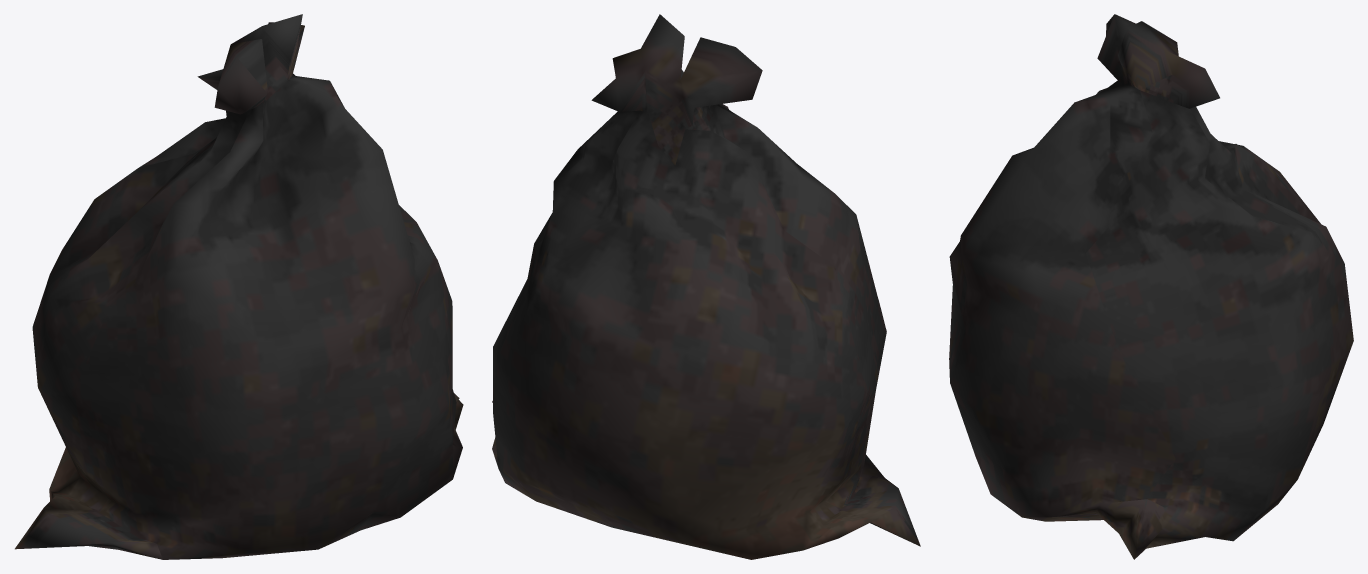
The model's file is Garbage.fbx.
The picture shows the model from 3 angles, left to right: view 1: azimuth 30°, elevation 25°; view 2: azimuth 150°, elevation 25°; view 3: azimuth 270°, elevation 25°; orthographic projection. The views are drawn at different scales.
Visible parts, largest first — view 1: GarbageBag; view 2: GarbageBag; view 3: GarbageBag.
Part boxes in pixels (bbox=[...]): GarbageBag: bbox=[15, 14, 463, 559]; GarbageBag: bbox=[492, 14, 920, 559]; GarbageBag: bbox=[949, 14, 1353, 559].
Size of the model in its own units: 78.68 by 80.42 by 62.83.
1 material, 1 textured.
